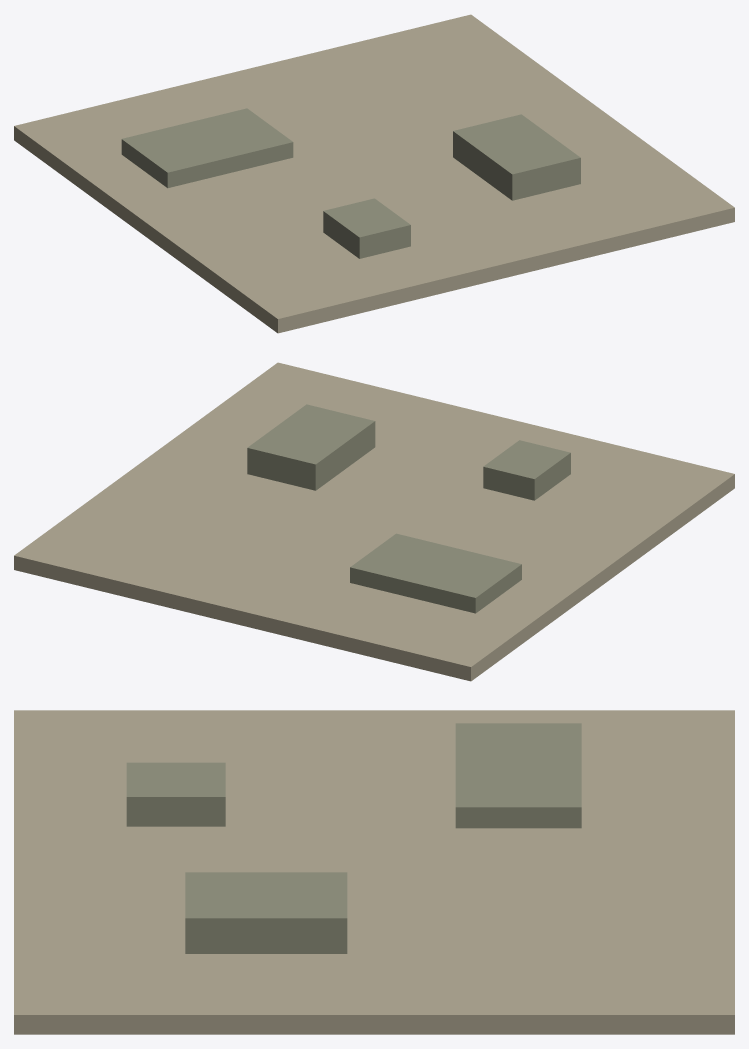
File: terrain-scrub.glb
3 renders of one model, top to bottom at view 1: azimuth 30°, elevation 25°; view 2: azimuth 150°, elevation 25°; view 3: azimuth 270°, elevation 25°, orthographic. The views are drawn at different scales.
Visible parts, largest first — view 1: terrain-scrub-0, terrain-scrub-1, terrain-scrub-2, terrain-scrub-3; view 2: terrain-scrub-0, terrain-scrub-1, terrain-scrub-2, terrain-scrub-3; view 3: terrain-scrub-0, terrain-scrub-1, terrain-scrub-2, terrain-scrub-3.
Boxes of the visible parts, bbox=[...] form: terrain-scrub-0: bbox=[14, 14, 734, 333]; terrain-scrub-1: bbox=[121, 108, 293, 188]; terrain-scrub-2: bbox=[453, 114, 580, 200]; terrain-scrub-3: bbox=[323, 198, 410, 258]; terrain-scrub-0: bbox=[14, 362, 734, 681]; terrain-scrub-1: bbox=[350, 533, 521, 613]; terrain-scrub-2: bbox=[247, 404, 375, 490]; terrain-scrub-3: bbox=[483, 440, 570, 500]; terrain-scrub-0: bbox=[14, 710, 734, 1034]; terrain-scrub-1: bbox=[455, 723, 581, 828]; terrain-scrub-2: bbox=[185, 872, 347, 953]; terrain-scrub-3: bbox=[126, 762, 225, 826].
Bounding box in the file's own units: 4 × 0.34 × 4.
